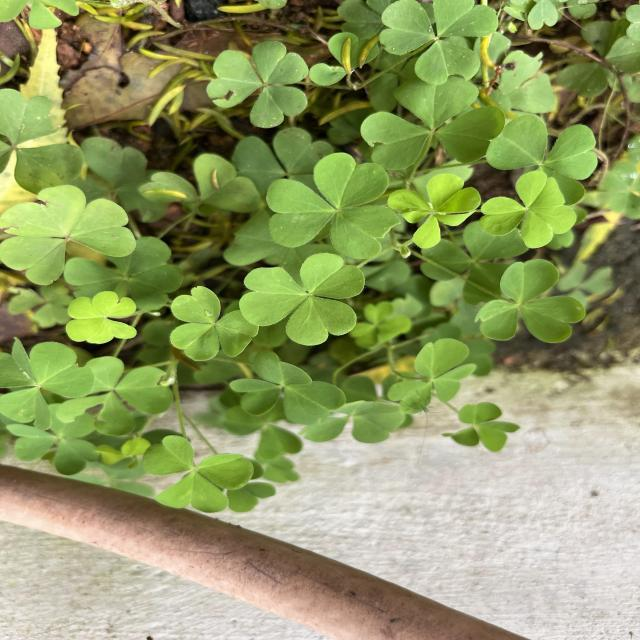Oxalis corniculata: (266, 151, 402, 261), (0, 184, 138, 288), (359, 76, 508, 171), (238, 252, 368, 347), (377, 0, 501, 86), (473, 258, 587, 344), (206, 40, 311, 132), (0, 336, 96, 432), (142, 434, 256, 514), (229, 358, 347, 427), (479, 170, 578, 250), (385, 335, 478, 415), (387, 173, 482, 250), (169, 286, 260, 362), (64, 290, 139, 345), (440, 402, 521, 452)
